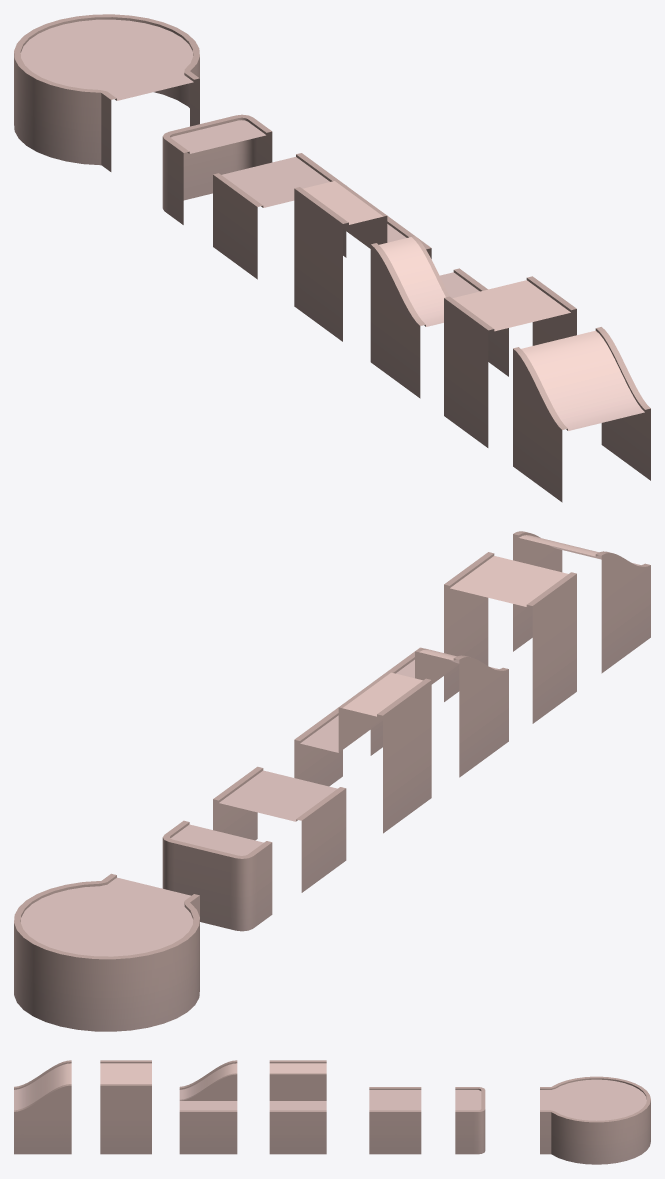
File: Road.fbx
The picture shows the model from 3 angles, top to bottom: view 1: azimuth 30°, elevation 25°; view 2: azimuth 150°, elevation 25°; view 3: azimuth 270°, elevation 25°; orthographic projection. The views are drawn at different scales.
Parts seen in each view (by area): view 1: Road_Finish, Road_Hill, Road_High, Road_Level_Hill, Road_Level, Road_DeadEnd, Road_Straight; view 2: Road_Finish, Road_High, Road_Level, Road_DeadEnd, Road_Straight, Road_Hill, Road_Level_Hill; view 3: Road_Finish, Road_Level, Road_High, Road_Level_Hill, Road_Hill, Road_Straight, Road_DeadEnd.
Part boxes in pixels (left/top/right/bottom): Road_Finish: left=14, top=14, right=199, bottom=171; Road_Hill: left=513, top=327, right=650, bottom=502; Road_High: left=444, top=276, right=576, bottom=447; Road_Level_Hill: left=370, top=236, right=508, bottom=398; Road_Level: left=294, top=180, right=431, bottom=341; Road_DeadEnd: left=162, top=114, right=272, bottom=224; Road_Straight: left=213, top=153, right=346, bottom=279; Road_Finish: left=14, top=873, right=199, bottom=1031; Road_High: left=444, top=552, right=576, bottom=723; Road_Level: left=294, top=671, right=431, bottom=833; Road_DeadEnd: left=162, top=820, right=272, bottom=931; Road_Straight: left=213, top=766, right=346, bottom=892; Road_Hill: left=513, top=531, right=650, bottom=673; Road_Level_Hill: left=370, top=647, right=508, bottom=777; Road_Finish: left=540, top=1076, right=650, bottom=1164; Road_Level: left=269, top=1060, right=326, bottom=1154; Road_High: left=100, top=1060, right=151, bottom=1154; Road_Level_Hill: left=179, top=1060, right=237, bottom=1154; Road_Hill: left=14, top=1060, right=71, bottom=1154; Road_Straight: left=369, top=1087, right=421, bottom=1154; Road_DeadEnd: left=455, top=1087, right=485, bottom=1154.
Bounding box in the file's own units: 701 × 490 × 4109.
